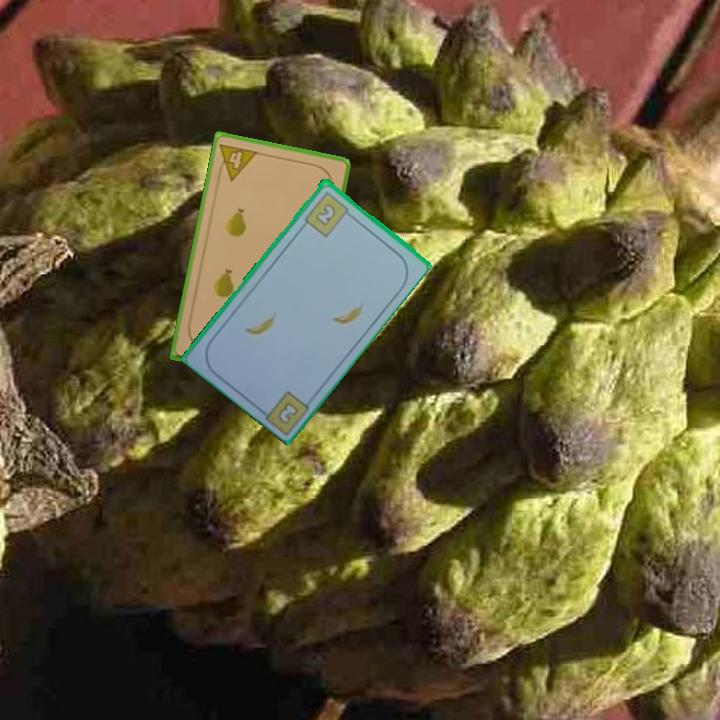2b: (301, 187, 355, 240), (274, 398, 302, 427)
4p: (213, 140, 261, 184)
